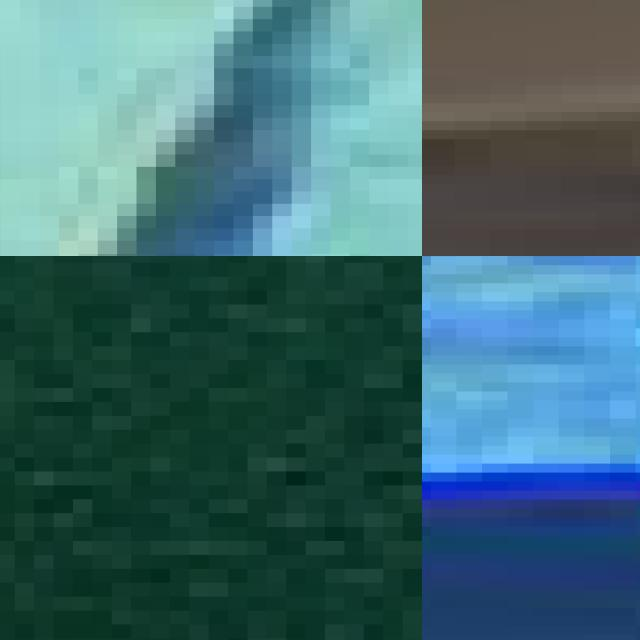fish: (0, 262, 422, 640), (0, 0, 422, 256)
